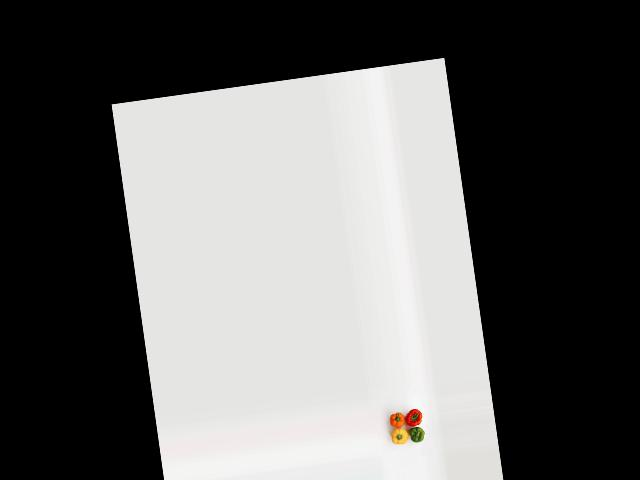bell_pepper: (406, 422, 427, 448)
